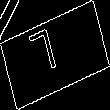L_S: (38, 26, 72, 84)
